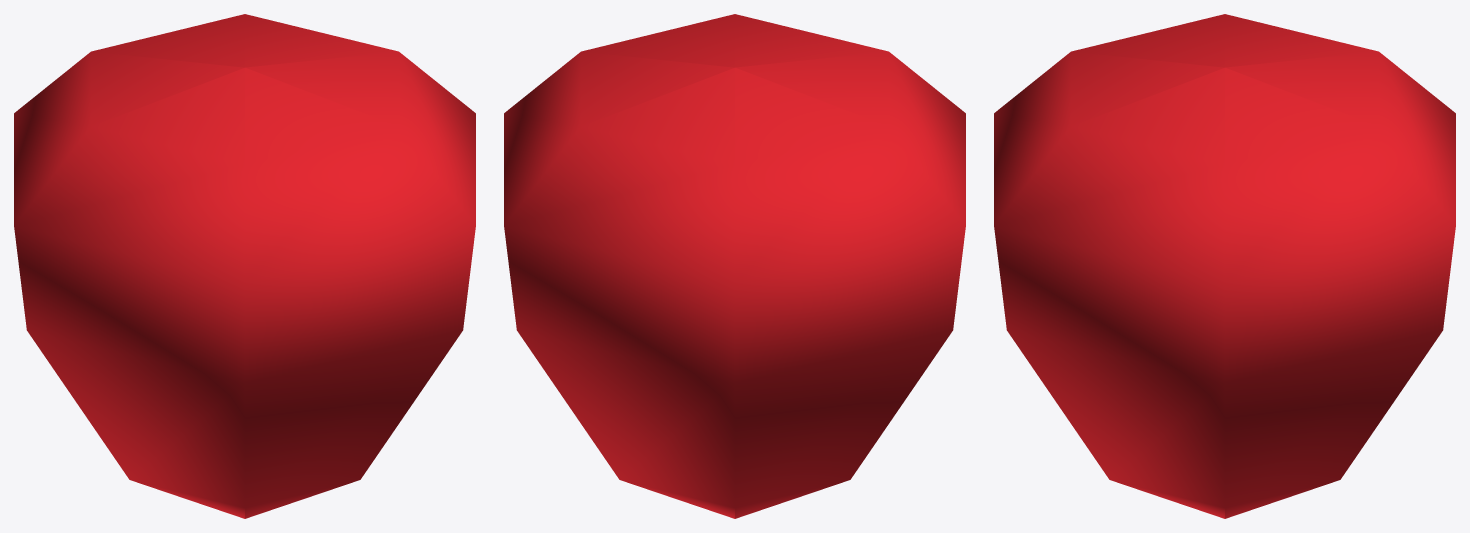
Rendered from fruit-strawberry-gold-far.glb.
3 renders of one model, left to right at view 1: azimuth 30°, elevation 25°; view 2: azimuth 150°, elevation 25°; view 3: azimuth 270°, elevation 25°, orthographic.
Visible parts, largest first — view 1: fruit-strawberry-far; view 2: fruit-strawberry-far; view 3: fruit-strawberry-far.
Part boxes in pixels (box(x1,y1,x2,y2)): fruit-strawberry-far: box(14, 14, 475, 518); fruit-strawberry-far: box(504, 14, 965, 518); fruit-strawberry-far: box(994, 14, 1455, 518).
Bounding box in the file's own units: 0.252 × 0.2352 × 0.2182.
